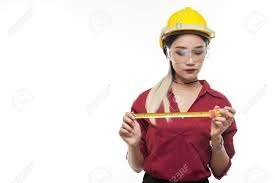helmet: (160, 7, 215, 48)
person with partial safety: (128, 6, 234, 181)
